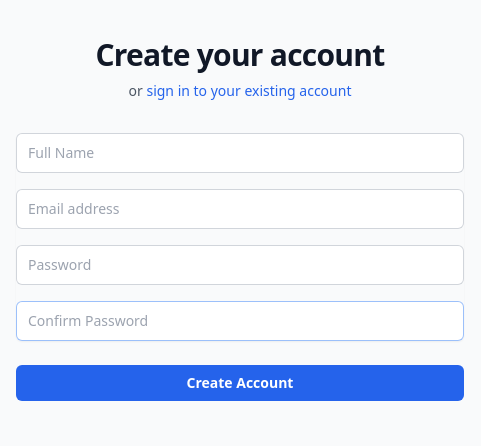
Test: RegisterPage › Form Submission › disables submit button while loading
Type "Test User" into the field with placeholder "Full Name" at (240, 153), box [16,133,464,173]
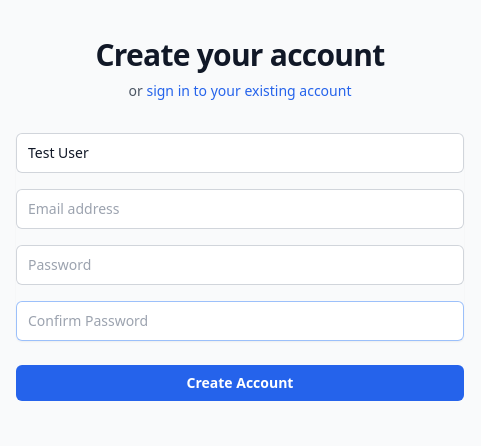
Type "test@example.com" into the field with placeholder "Email address" at (240, 209), box [16,189,464,229]
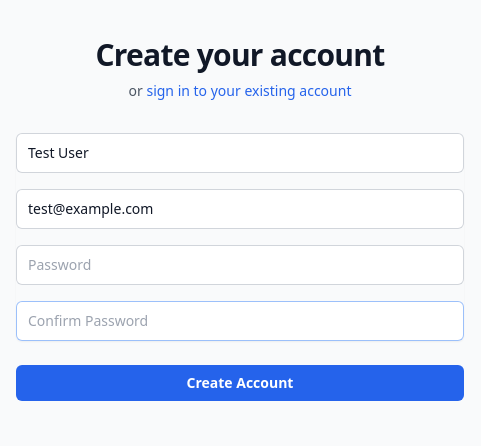
Type "Strong123!" into the password field with placeholder "Password" at (240, 265), box [16,245,464,285]
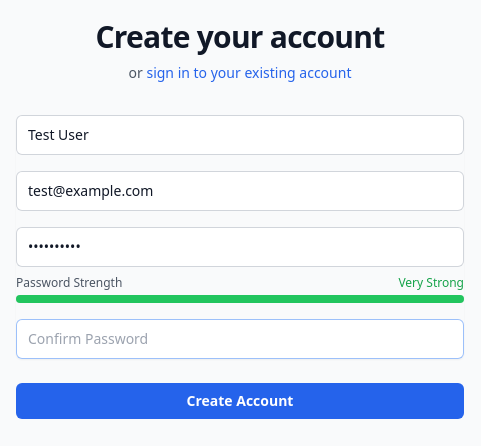
Type "Strong123!" into the password field with placeholder "Confirm Password" at (240, 339), box [16,319,464,359]
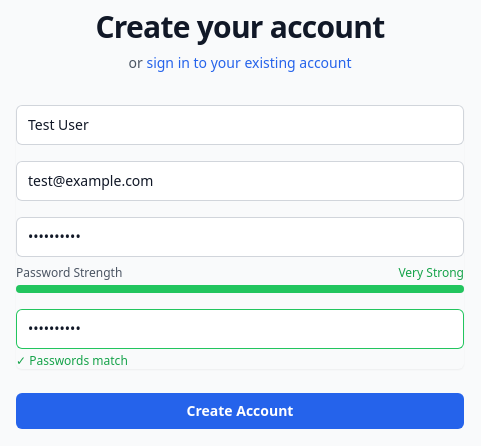
Click the button "Create Account" at (240, 411), box [16,393,464,429]
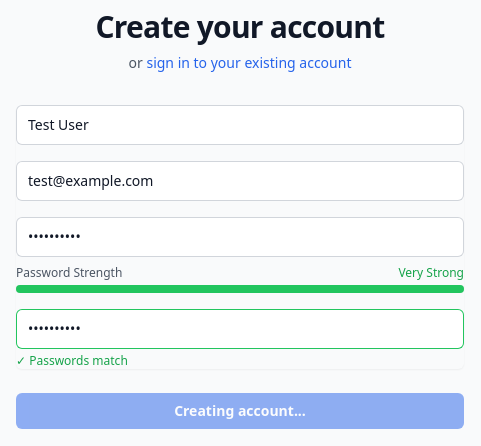
Expected: the button named "Create Account" is disabled, [16,393,464,429]
